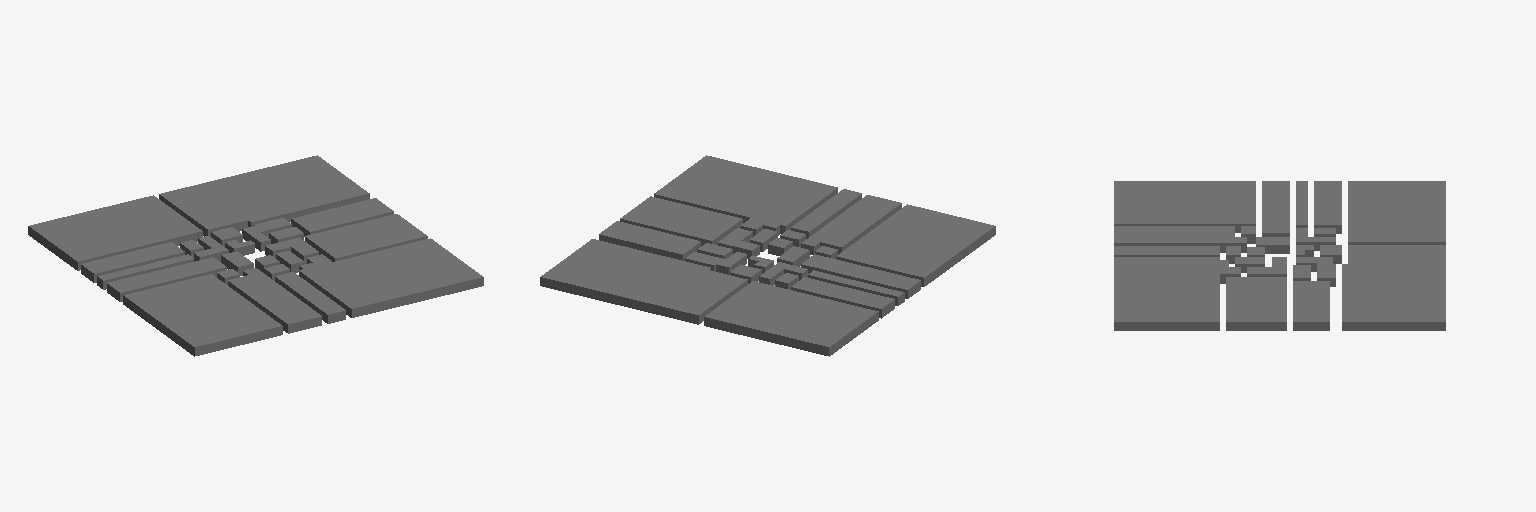
The model's file is buildingsMesh1.obj.
The picture shows the model from 3 angles: view 1: azimuth 30°, elevation 25°; view 2: azimuth 150°, elevation 25°; view 3: azimuth 270°, elevation 25°; orthographic projection.
Parts seen in each view (by area): view 1: buildingsMesh1:polySurface25; view 2: buildingsMesh1:polySurface25; view 3: buildingsMesh1:polySurface25.
Boxes of the visible parts, x1=… form: buildingsMesh1:polySurface25: x1=28, y1=155, x2=483, y2=356; buildingsMesh1:polySurface25: x1=540, y1=155, x2=995, y2=356; buildingsMesh1:polySurface25: x1=1114, y1=181, x2=1445, y2=330.
Size of the model in its own units: 437 by 13.45 by 435.